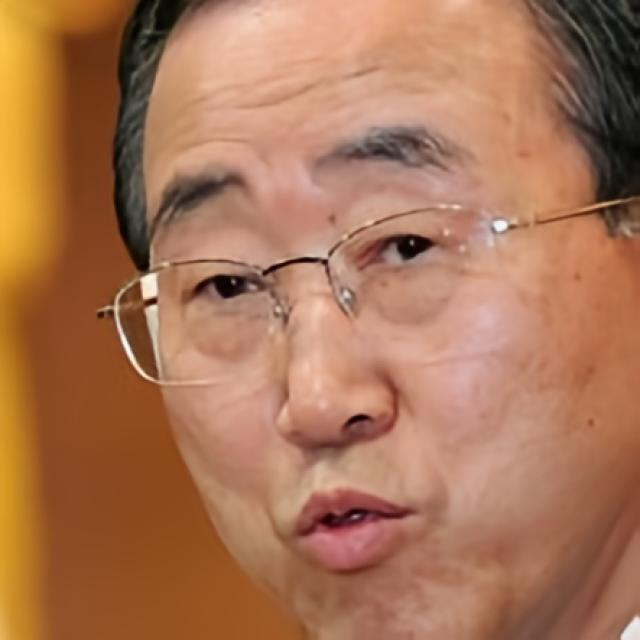surprise: (145, 0, 640, 640)
